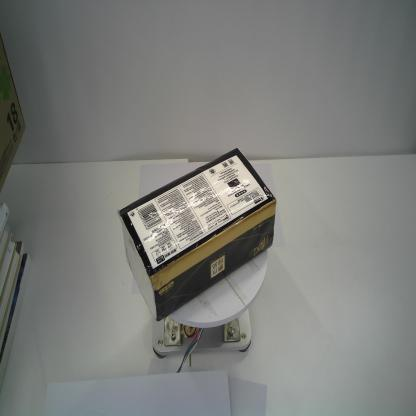Tissue: (115, 145, 278, 324)
